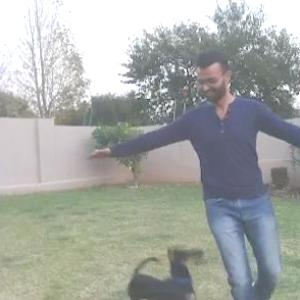land: (128, 65, 299, 293)
